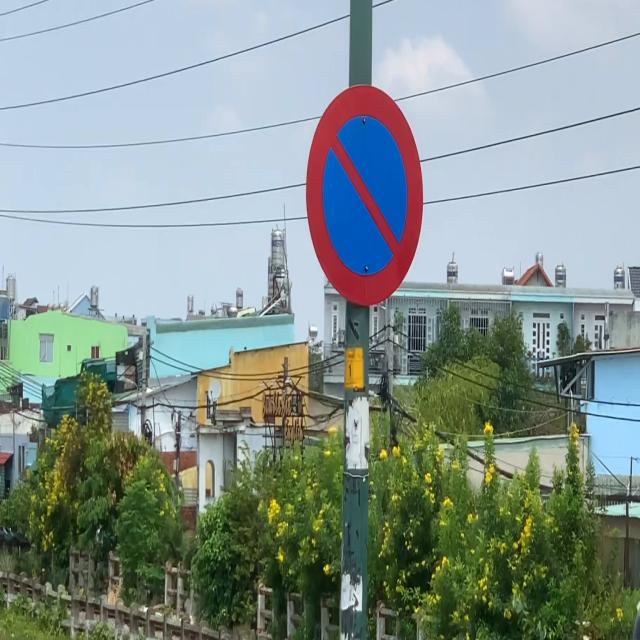Cam do: (305, 78, 426, 307)
